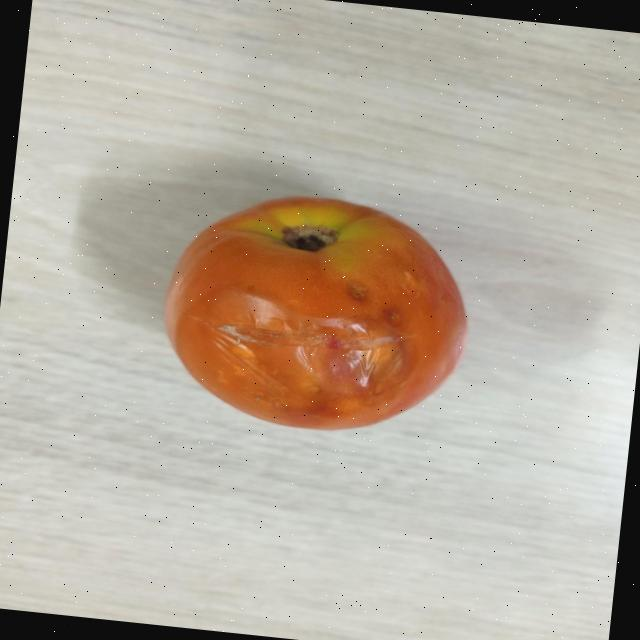Rotten: (152, 178, 478, 443)
